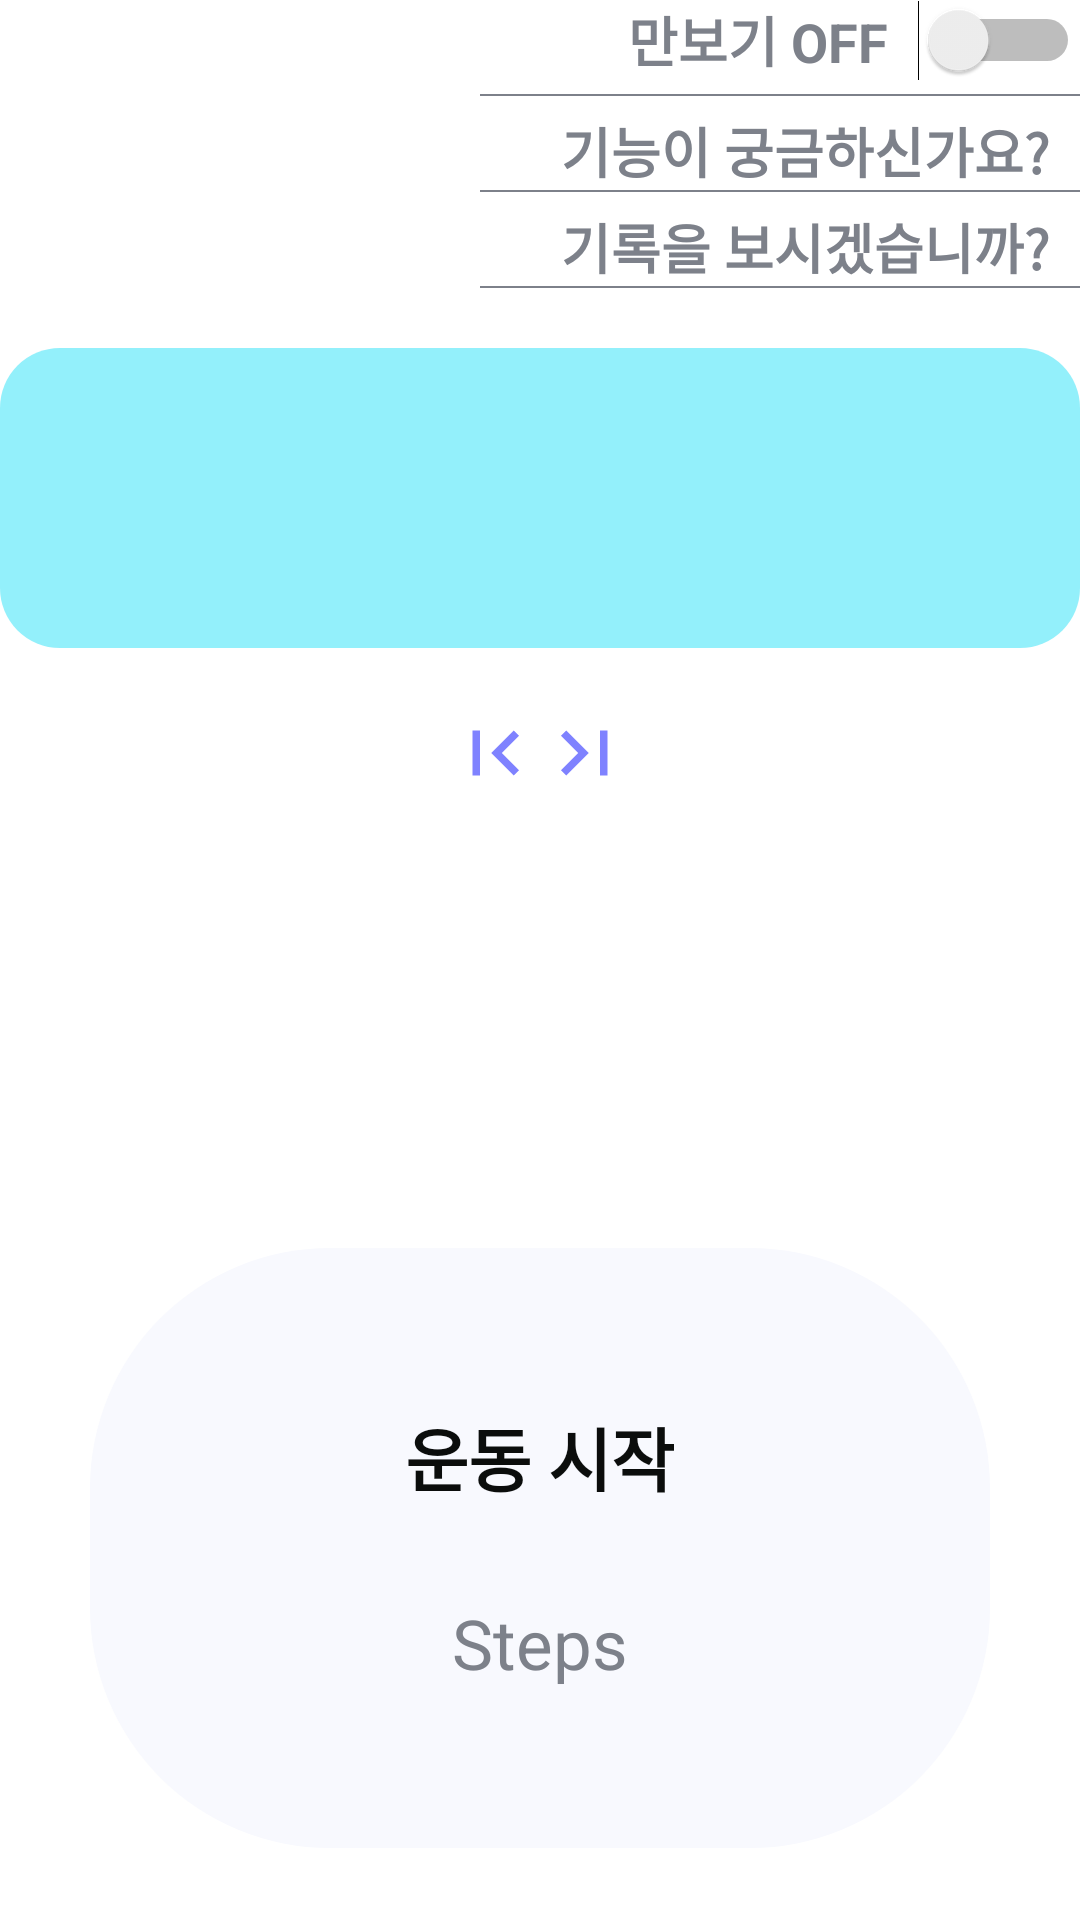

Icon click points for this 1080 × 1920 phone screenshot, format (x=x, y=y):
first page: (x=495, y=753)
last page: (x=584, y=753)
